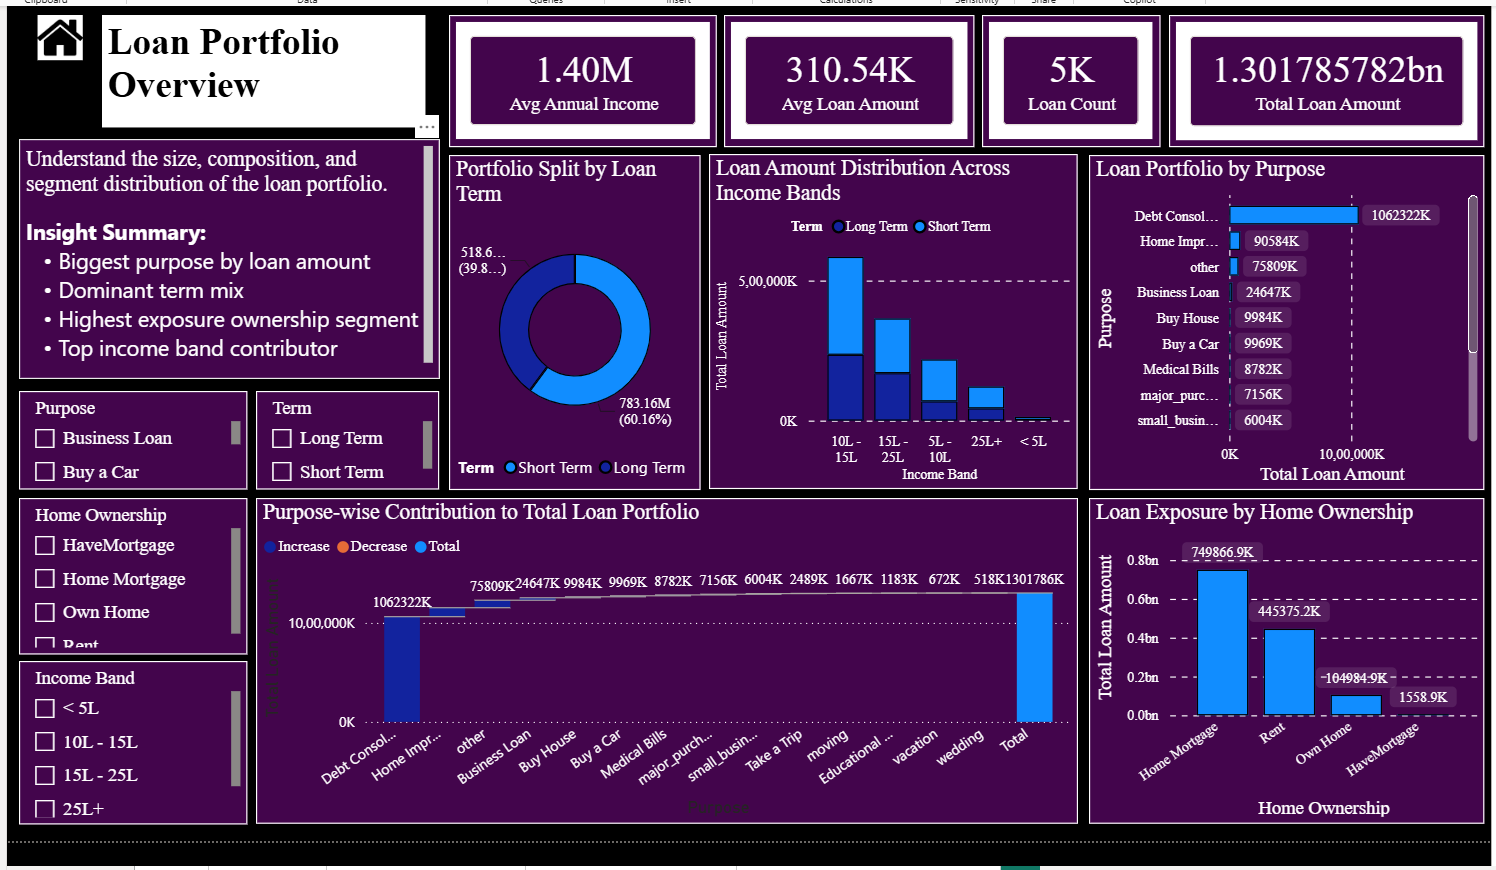

This screenshot's page, from the dashboard's own definition file:
{"tool":"powerbi","page":{"name":"Loan Portfolio","canvas":[1280,720],"ordinal":1},"visuals":[{"type":"cardVisual","title":"Total Loan Amount","fields":{"Data":["credit_test.Avg Annual Income"]},"box":[381.2,7.8,231.2,113.9],"z":0},{"type":"cardVisual","title":"Avg Loan Amount","fields":{"Data":["credit_test.Loan Count"]},"box":[841,7.8,153.5,113.9],"z":1000},{"type":"cardVisual","title":"Avg Annual Income","fields":{"Data":["credit_test.Total Loan Amount"]},"box":[1002.3,7.6,272.1,114.1],"z":2000},{"type":"cardVisual","title":"Loan Count","fields":{"Data":["credit_test.Avg Loan Amount"]},"box":[618.4,7.8,216.5,113.9],"z":3000},{"type":"slicer","fields":{"Values":["credit_test.Term"]},"box":[214.8,332.1,157.8,85.4],"z":4000},{"type":"slicer","fields":{"Values":["credit_test.Purpose"]},"box":[10.4,332.1,196.7,84.5],"z":5000},{"type":"slicer","fields":{"Values":["credit_test.Home Ownership"]},"box":[10.4,424.4,196.7,135.4],"z":6000},{"type":"slicer","fields":{"Values":["credit_test.Income Band"]},"box":[10.4,565,196.7,141.5],"z":7000},{"type":"clusteredColumnChart","title":"Loan Exposure by Home Ownership","fields":{"Category":["credit_test.Home Ownership"],"Y":["credit_test.Total Loan Amount"]},"box":[933,424.2,341.4,281.4],"z":8000},{"type":"clusteredBarChart","title":"Loan Portfolio by Purpose","fields":{"Category":["credit_test.Purpose"],"Y":["credit_test.Total Loan Amount"]},"box":[933,128.5,341.4,289],"z":9000},{"type":"donutChart","title":"Portfolio Split by Loan Term","fields":{"Category":["credit_test.Term"],"Y":["credit_test.Total Loan Amount"]},"box":[380.8,128.7,217.1,288.9],"z":10000},{"type":"columnChart","title":"Loan Amount Distribution Across Income Bands","fields":{"Y":["credit_test.Total Loan Amount"],"Category":["credit_test.Income Band"],"Series":["credit_test.Term"]},"box":[605.5,127.7,318.3,288.9],"z":11000},{"type":"waterfallChart","title":"Purpose-wise Contribution to Total Loan Portfolio","fields":{"Category":["credit_test.Purpose"],"Y":["credit_test.Total Loan Amount"]},"box":[214.6,424.2,709,281.4],"z":12000},{"type":"textbox","box":[82,7.6,278.9,97.2],"z":13000},{"type":"textbox","box":[10.1,114.9,363.4,207],"z":14000},{"type":"image","box":[10.1,7.6,71.8,38.9],"z":16000}]}

Visuals, with their boxes on the page's 1280x720 design canvas (x1, y1, x2, y2). These are canvas units, not pixel positions in the 1496x870 screenshot, which may show the page scaled, cropped or inside an application window:
"Total Loan Amount" cardVisual: (381,8,612,122)
"Avg Loan Amount" cardVisual: (841,8,994,122)
"Avg Annual Income" cardVisual: (1002,8,1274,122)
"Loan Count" cardVisual: (618,8,835,122)
slicer - credit_test.Term: (215,332,373,418)
slicer - credit_test.Purpose: (10,332,207,417)
slicer - credit_test.Home Ownership: (10,424,207,560)
slicer - credit_test.Income Band: (10,565,207,706)
"Loan Exposure by Home Ownership" clusteredColumnChart: (933,424,1274,706)
"Loan Portfolio by Purpose" clusteredBarChart: (933,128,1274,418)
"Portfolio Split by Loan Term" donutChart: (381,129,598,418)
"Loan Amount Distribution Across Income Bands" columnChart: (606,128,924,417)
"Purpose-wise Contribution to Total Loan Portfolio" waterfallChart: (215,424,924,706)
textbox: (82,8,361,105)
textbox: (10,115,374,322)
image: (10,8,82,46)
